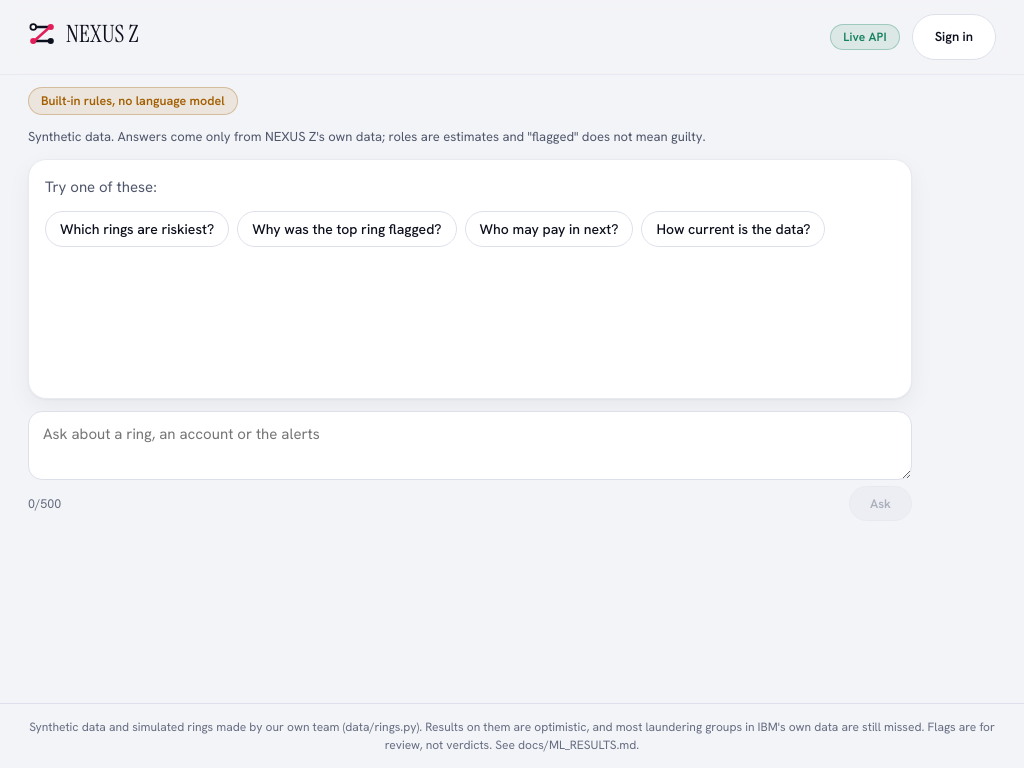
Test: answers and errors › an answer from the rules or the local model is shown as written, not parsed as Markdown
This screenshot has width=1024, height=768.
Check: the text "Built-in rules, no language model" is shown, box 28,86 -> 238,115
Type "q" into the text box named "Your question". click: (470,446)
box: 28,411 -> 912,480
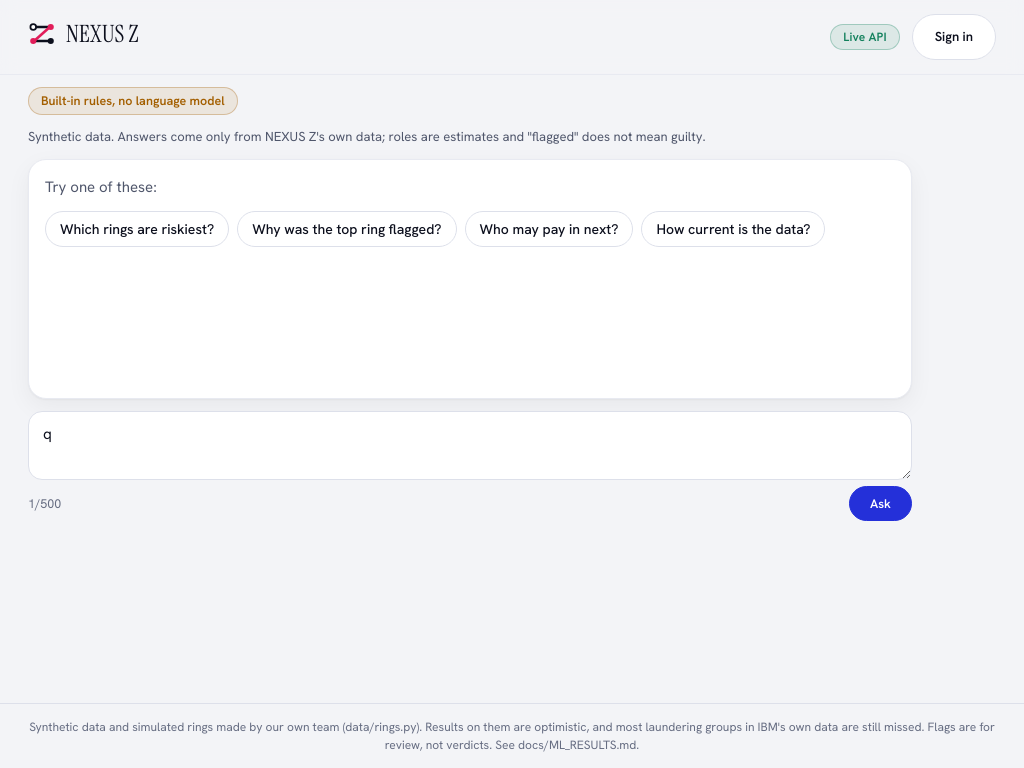
Click the button "Ask". click: (880,504)
box: 849,486 -> 912,521
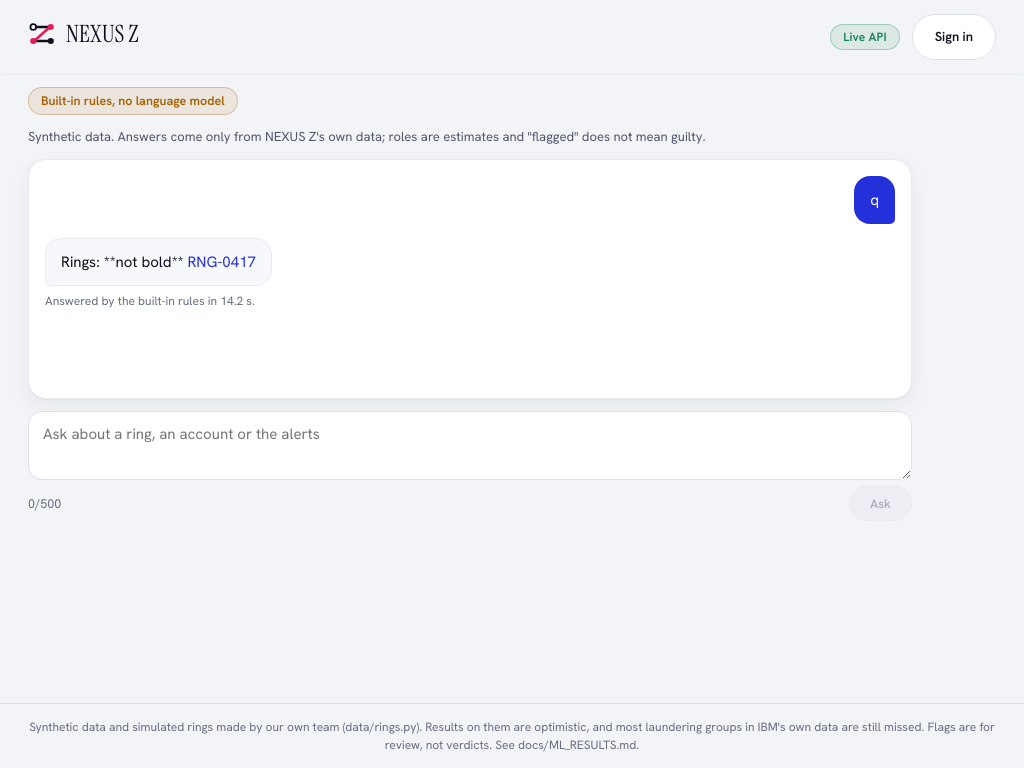
Check: the text "Answered by the built-in rules in 14.2 s." is shown, box 45,293 -> 255,309
Check: the text "**not bold**" is shown, box 61,252 -> 188,272
Check: the link "RNG-0417" is shown, box 188,252 -> 256,272
